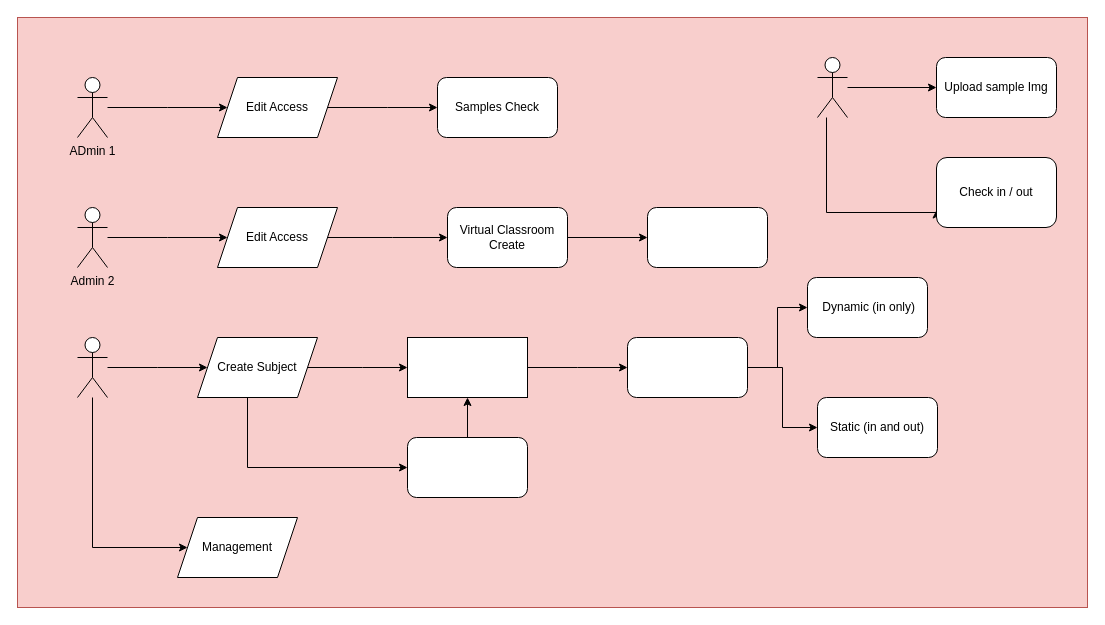
This 1105x625 diagram has some shape labels left out. Here are the shapes that lost their labels. From the top down, the centre of each, then its label:
point 832,87: Student/Staff
point 707,237: Verify Sample Img
point 92,367: Lecture
point 467,367: Classroom Selection
point 687,367: Check in/ out
point 467,467: Add student into the Subject
